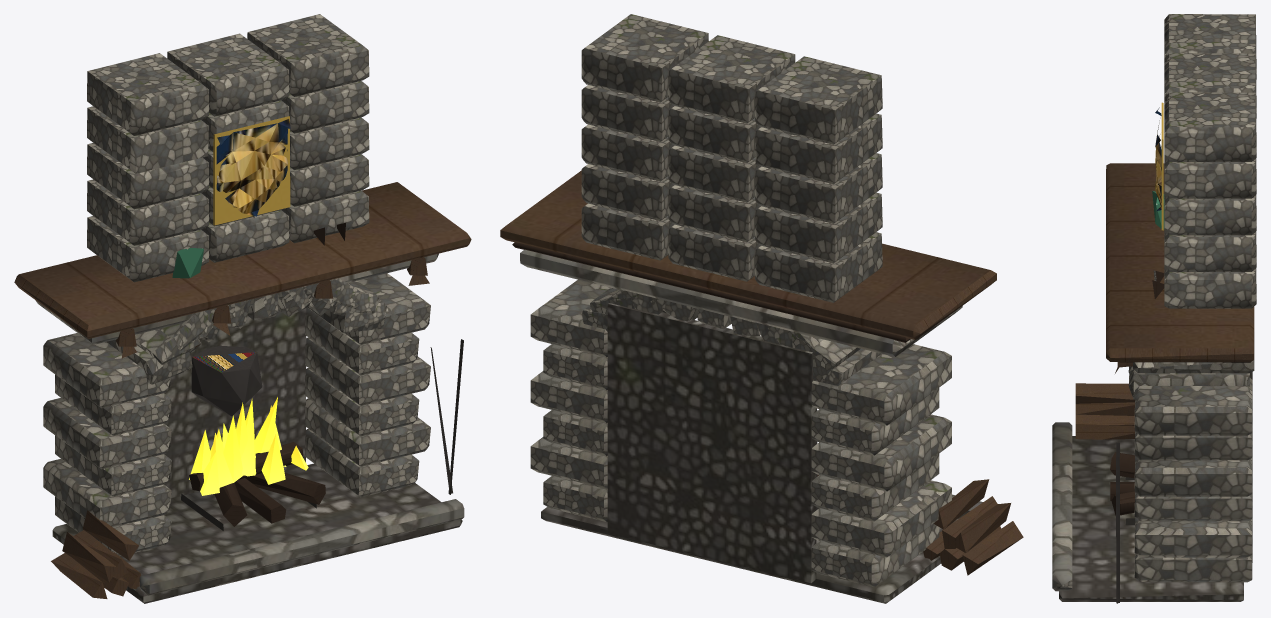
Rendered from hearth_lod2.glb.
3 views of the same model, side by side, from view 1: azimuth 30°, elevation 25°; view 2: azimuth 150°, elevation 25°; view 3: azimuth 270°, elevation 25° (orthographic). The views are drawn at different scales.
Visible parts, largest first — view 1: hearth; view 2: hearth; view 3: hearth.
Part boxes in pixels (left/top/right/bottom): hearth: left=14, top=14, right=471, bottom=603; hearth: left=500, top=14, right=1023, bottom=603; hearth: left=1052, top=14, right=1256, bottom=603.
Size of the model in its own units: 2.72 by 2.97 by 1.22.
1 material, 1 textured.
